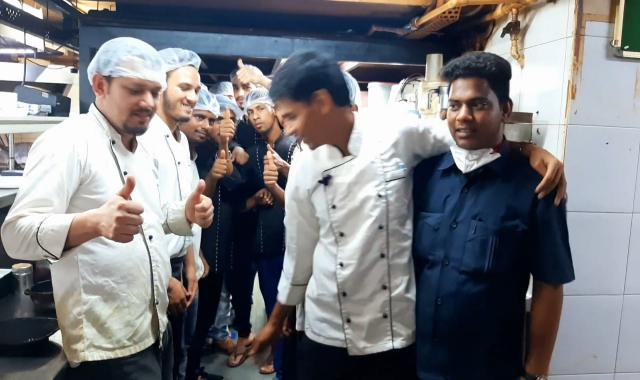hairnet: (87, 35, 162, 100), (157, 45, 207, 78), (186, 90, 222, 122), (242, 90, 276, 115)
no_hairnet: (269, 56, 354, 111), (441, 51, 512, 100)
